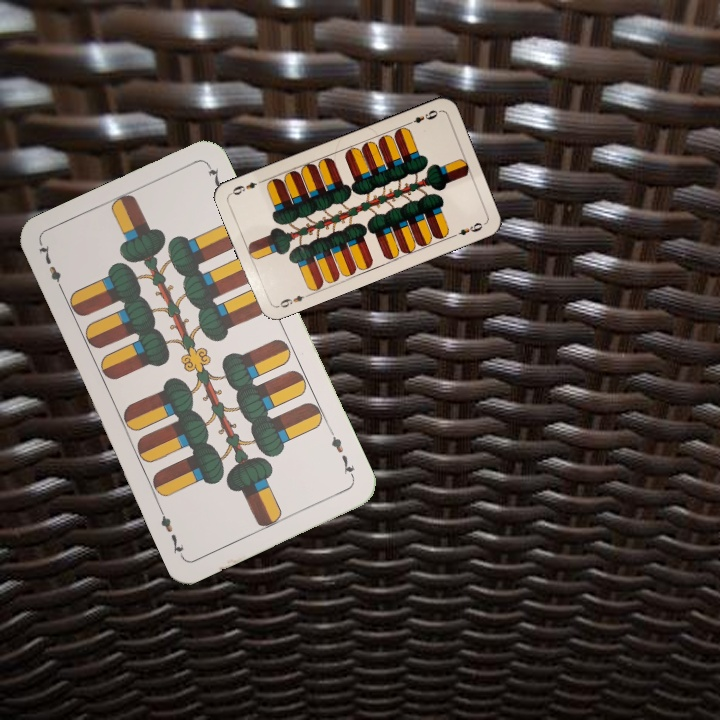E7: (35, 240, 67, 296), (326, 426, 358, 481)
E9: (403, 106, 442, 127), (272, 290, 312, 310)
